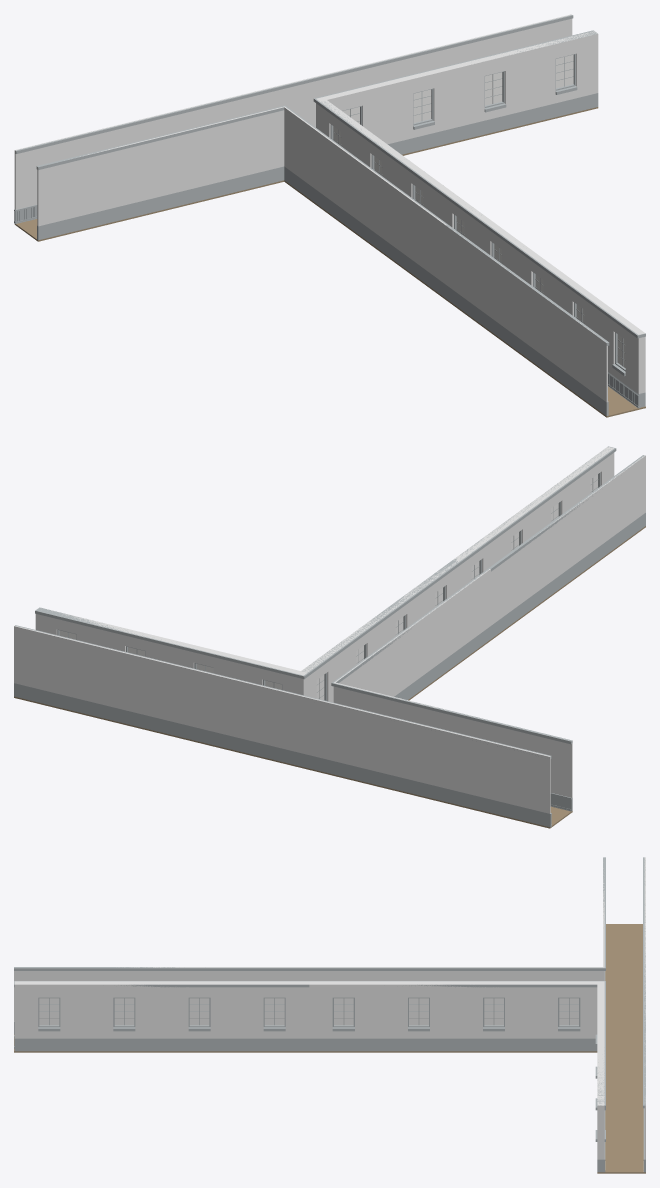
The model's file is 876_european_corridor_Tshaped_view.glb.
3 renders of one model, top to bottom at view 1: azimuth 30°, elevation 25°; view 2: azimuth 150°, elevation 25°; view 3: azimuth 270°, elevation 25°, orthographic. The views are drawn at different scales.
Parts seen in each view (by area): view 1: kabe3, kabe2, kabe1, 床; view 2: kabe1, kabe3, kabe2, 床; view 3: kabe2, 床, kabe3, kabe1.
Part boxes in pixels (x1,y1,x2,y2): kabe3: (36, 105, 609, 415); kabe2: (313, 30, 645, 408); kabe1: (14, 14, 573, 224); 床: (14, 107, 645, 417); kabe1: (14, 625, 551, 827); kabe3: (331, 455, 645, 811); kabe2: (35, 446, 616, 702); 床: (14, 526, 645, 828); kabe2: (14, 981, 605, 1172); 床: (14, 924, 645, 1173); kabe3: (14, 857, 605, 1034); kabe1: (643, 857, 645, 1172).
Size of the model in its own units: 39.95 by 5.1 by 42.91.
